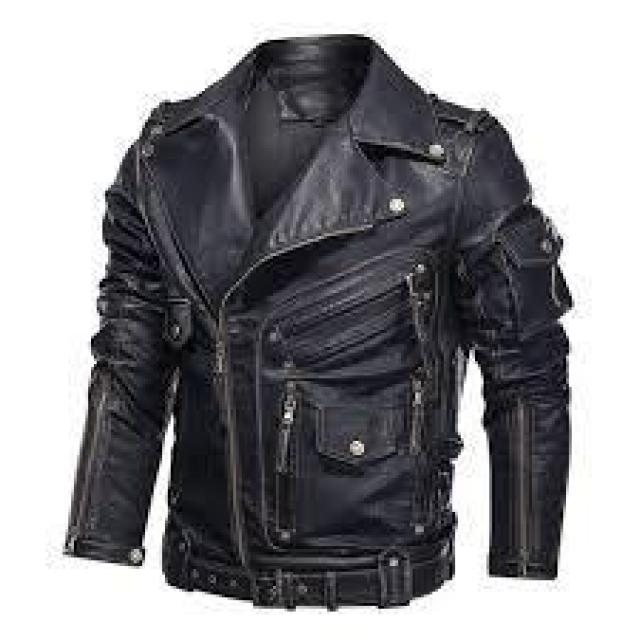jacket: (67, 40, 599, 626)
